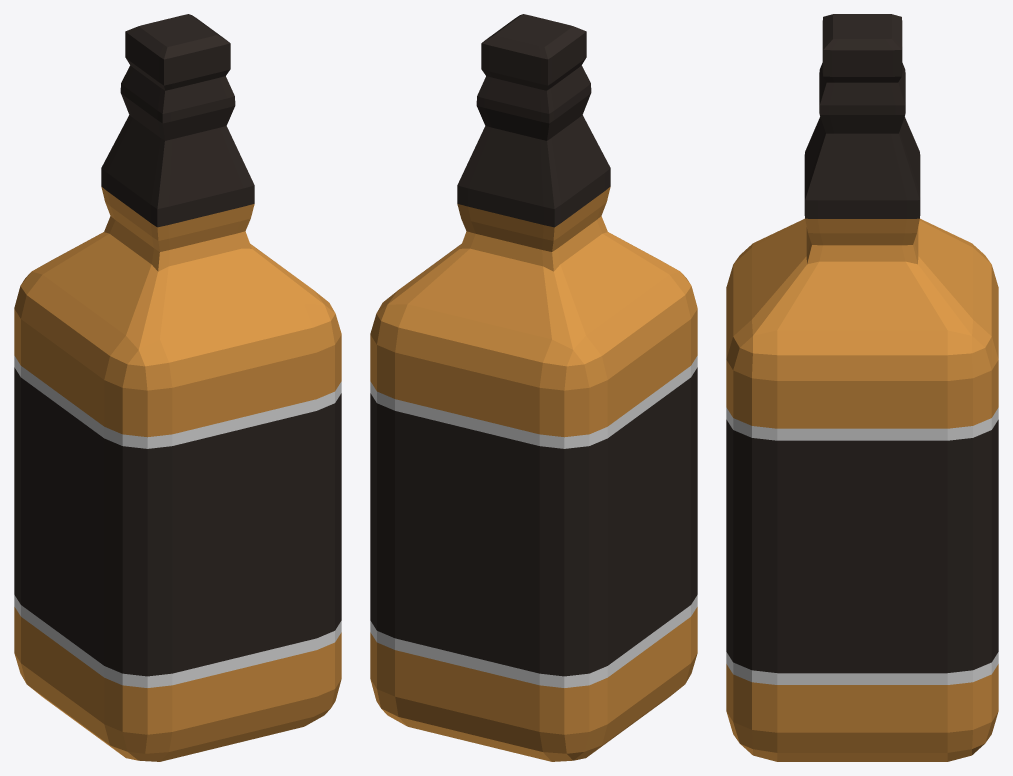
File: Bottle.fbx
3 renders of one model, left to right at view 1: azimuth 30°, elevation 25°; view 2: azimuth 150°, elevation 25°; view 3: azimuth 270°, elevation 25°, orthographic. The views are drawn at different scales.
Visible parts, largest first — view 1: Cube.035; view 2: Cube.035; view 3: Cube.035.
Boxes of the visible parts, <box> form: Cube.035: <box>14,14,341,761</box>; Cube.035: <box>370,14,697,761</box>; Cube.035: <box>726,14,998,761</box>.
Size of the model in its own units: 148 by 417 by 148.
